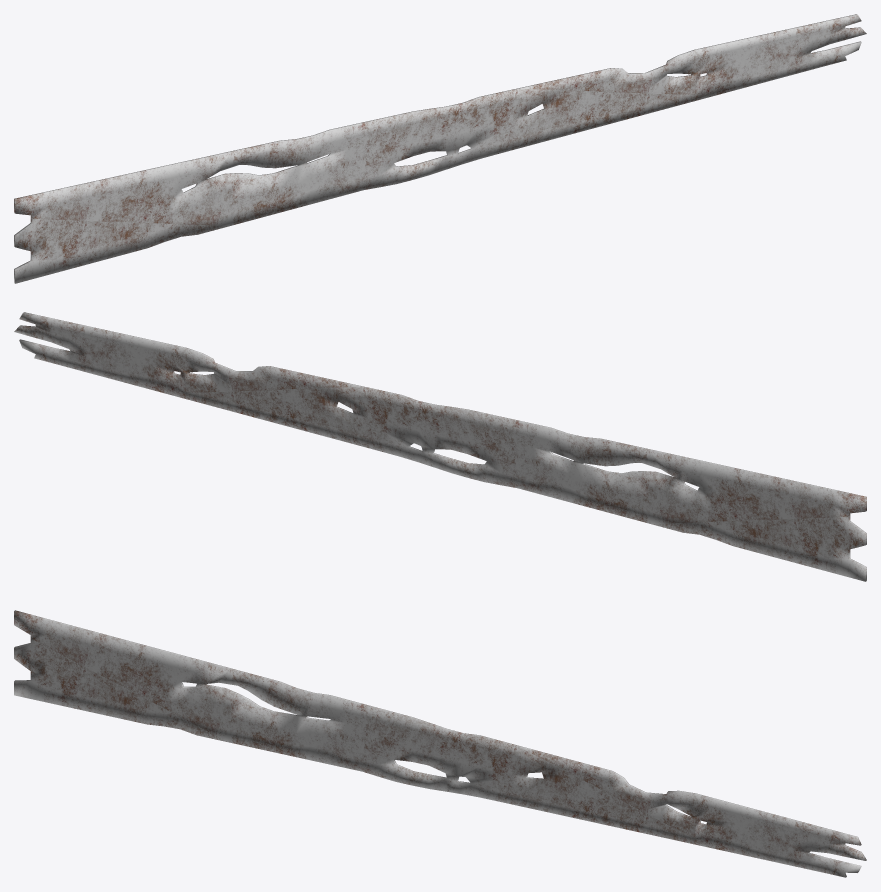
Rendered from Flag.fbx.
3 renders of one model, top to bottom at view 1: azimuth 30°, elevation 25°; view 2: azimuth 150°, elevation 25°; view 3: azimuth 330°, elevation 25°, orthographic.
Parts seen in each view (by area): view 1: Flag; view 2: Flag; view 3: Flag.
Boxes of the visible parts, x1=… form: Flag: x1=14, y1=14, x2=866, y2=283; Flag: x1=14, y1=312, x2=866, y2=581; Flag: x1=14, y1=610, x2=866, y2=877.
Bounding box in the file's own units: 1000 × 402297 × 38000.
1 material, 1 textured.
